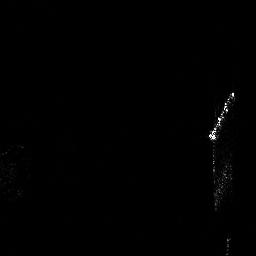ship: (206, 89, 236, 215)
